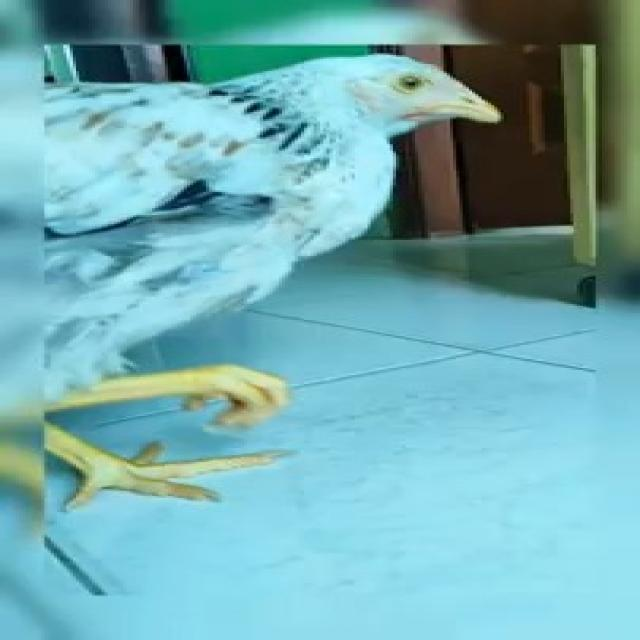leg stretching: (0, 11, 542, 532)
